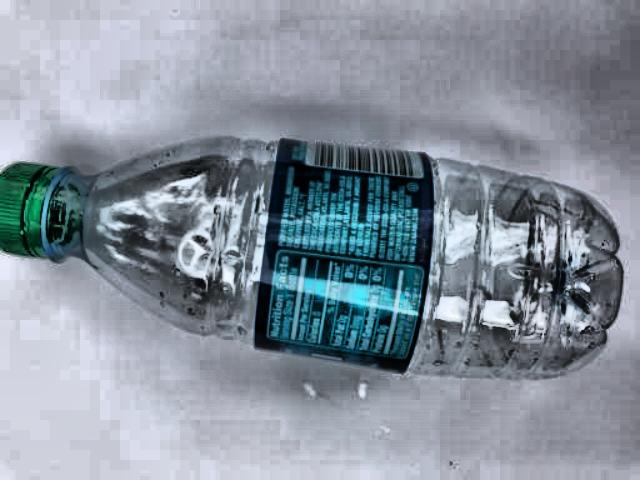Bottles: (0, 118, 640, 388)
